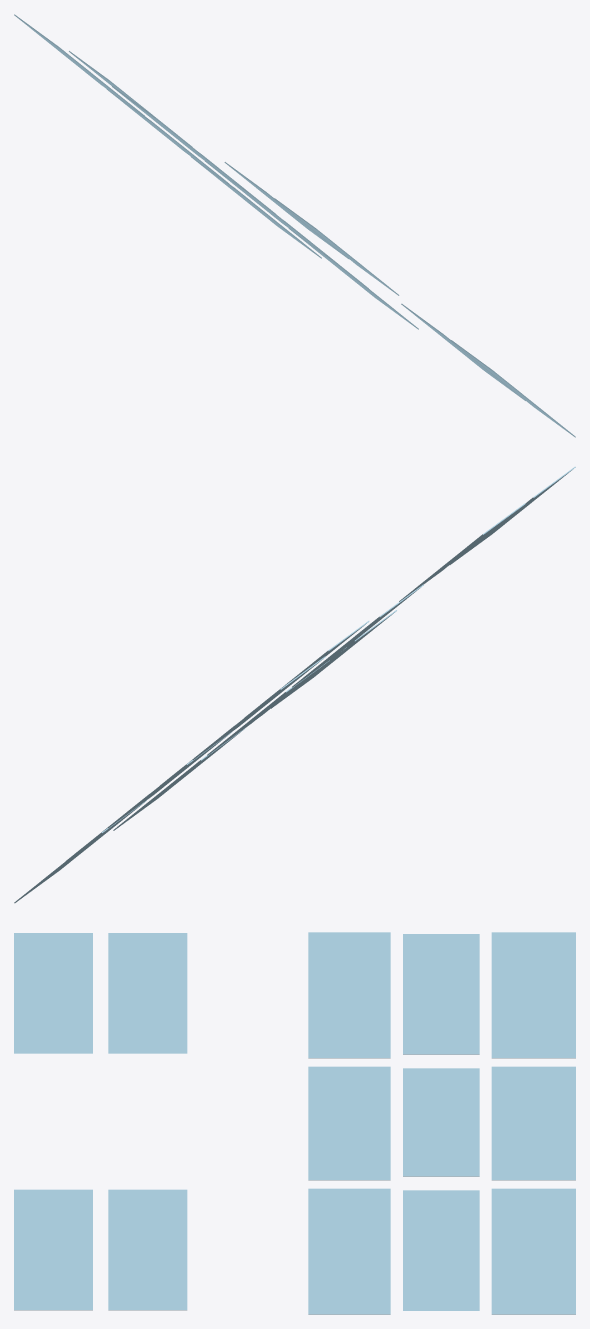
The model's file is Prozor.gltf.
3 renders of one model, top to bottom at view 1: azimuth 30°, elevation 25°; view 2: azimuth 150°, elevation 25°; view 3: azimuth 270°, elevation 25°, orthographic. The views are drawn at different scales.
Parts seen in each view (by area): view 1: Prozori.002; view 2: Prozori.002; view 3: Prozori.002.
Boxes of the visible parts, <box> form: Prozori.002: <box>14,14,575,437</box>; Prozori.002: <box>14,466,575,903</box>; Prozori.002: <box>14,932,575,1314</box>.
Bounding box in the file's own units: 308 × 308 × 597.
Materials: 1 (1 with a texture image).
